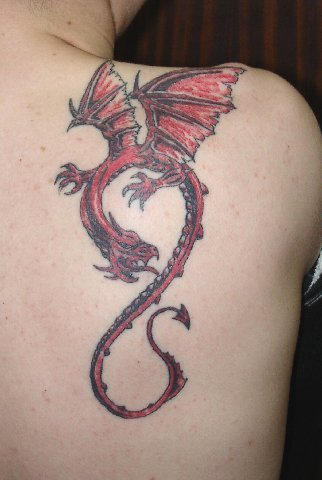tatu6_drakon: (48, 49, 258, 445)
